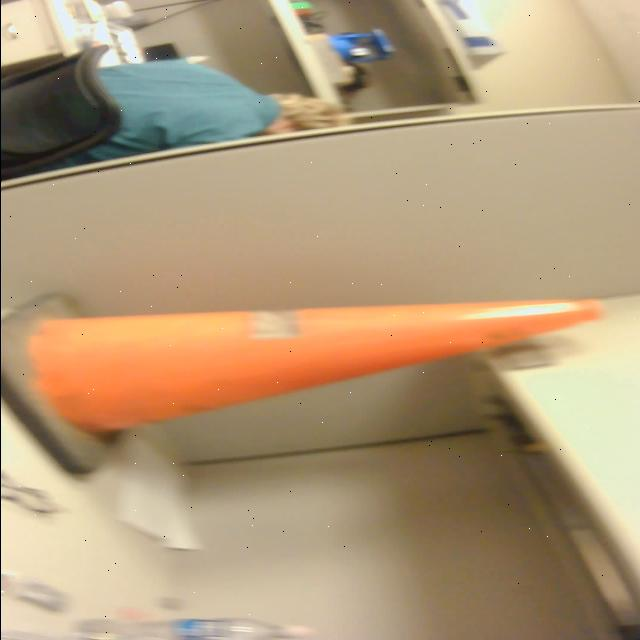traffic cone: (2, 286, 614, 480)
